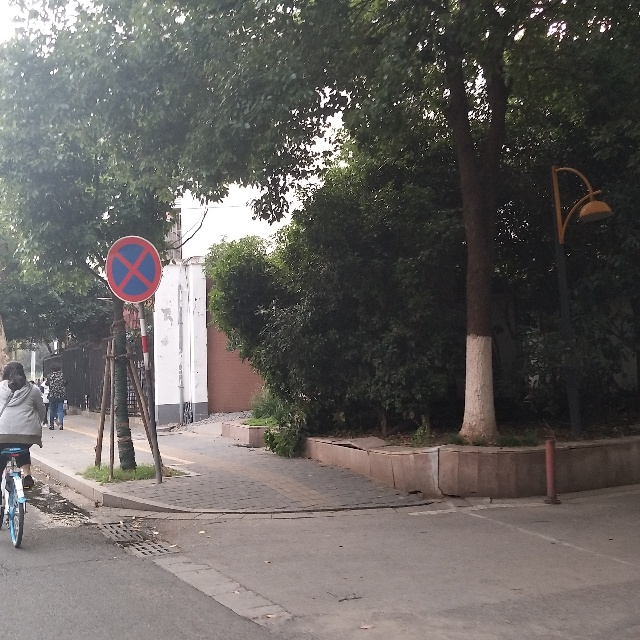stop: (106, 240, 157, 300)
